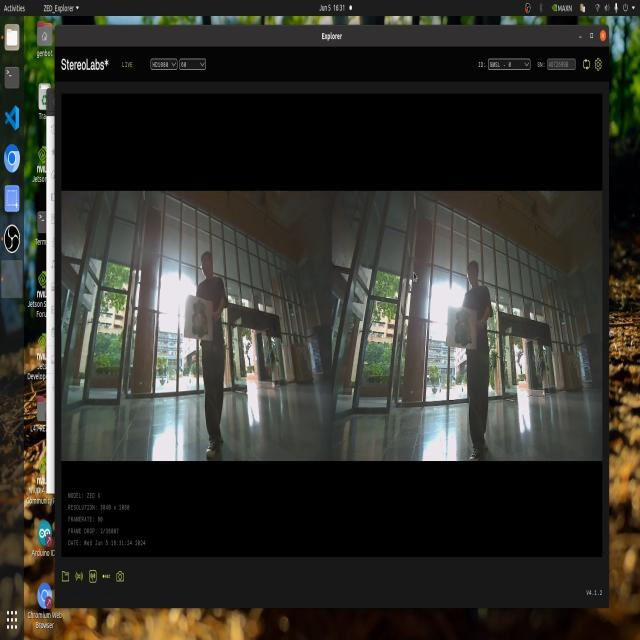green: (181, 286, 213, 344), (456, 311, 476, 353)
